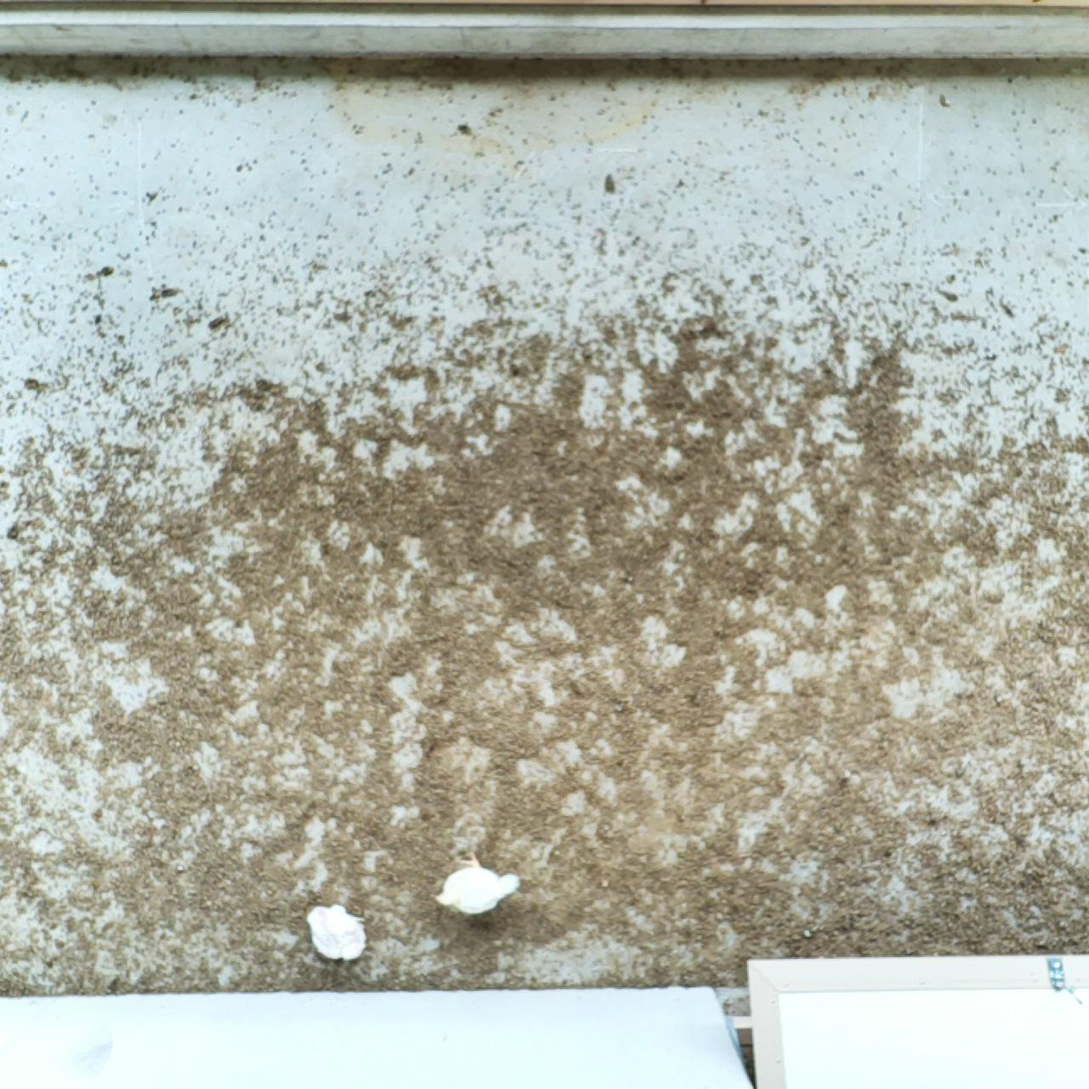chicken: (435, 849, 521, 916), (306, 905, 369, 959)
